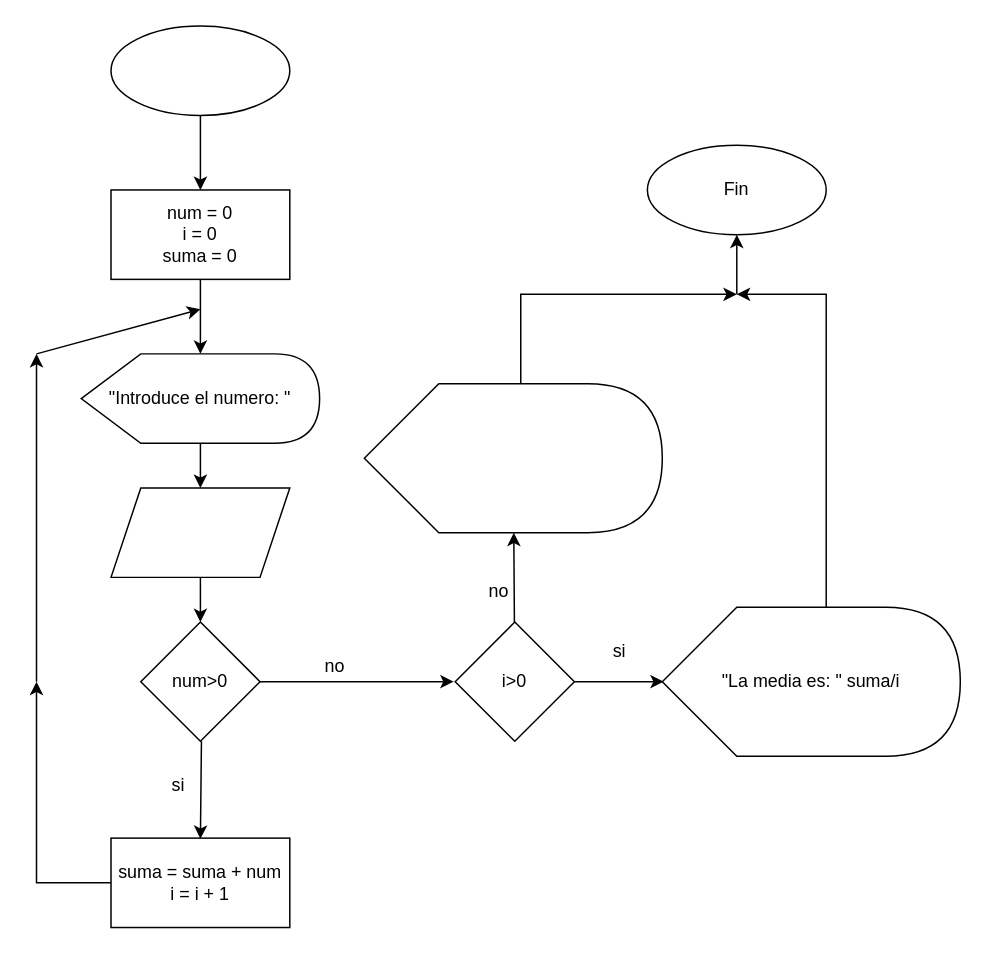
Some shapes in this 986 by 954 pixel diagram are drawn without their labels. Each missing label, with the box of its shape:
"No se han introducido numeros positivos": (363, 382, 662, 533)
Inicio: (110, 25, 290, 115)
num: (110, 486, 290, 577)
